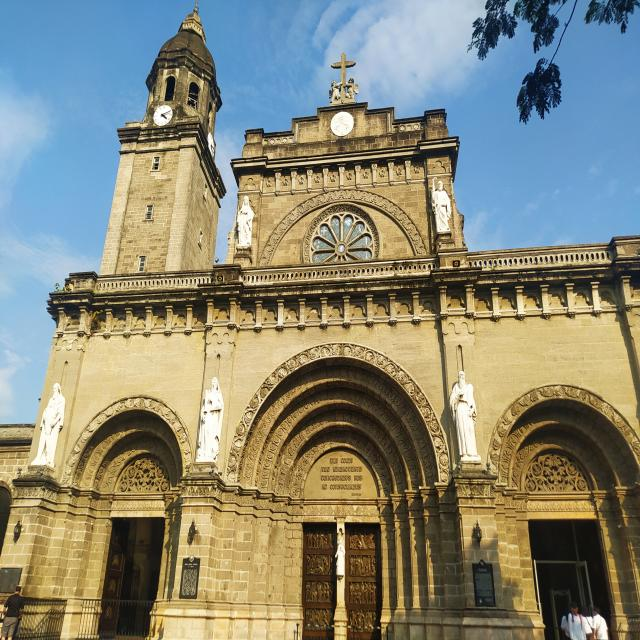Manila Cathedral: (0, 3, 640, 640)
